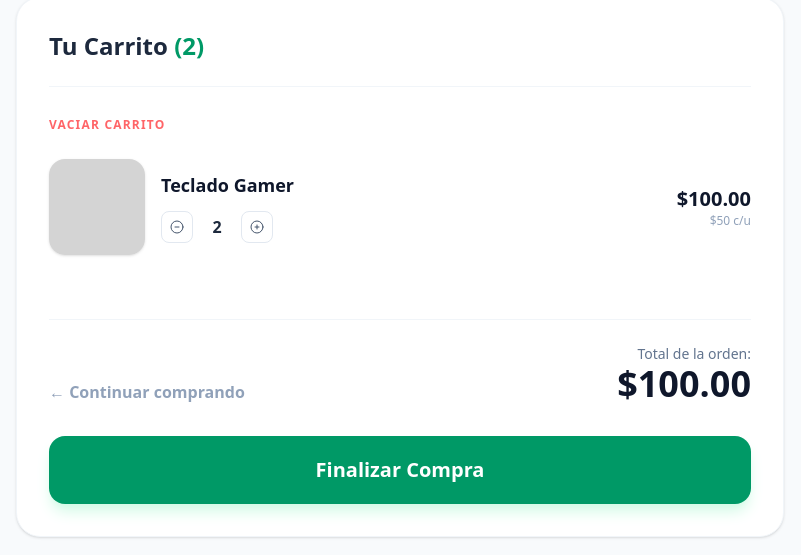
it: <Cart /> › debe vaciar el carrito al hacer clic en "Vaciar Carrito"
The width and height of the screenshot is (801, 555).
What coordinates should you click on to do the following:
click the button "Vaciar Carrito"
I would click on:
 (107, 125)
Its box is [49, 117, 166, 133].
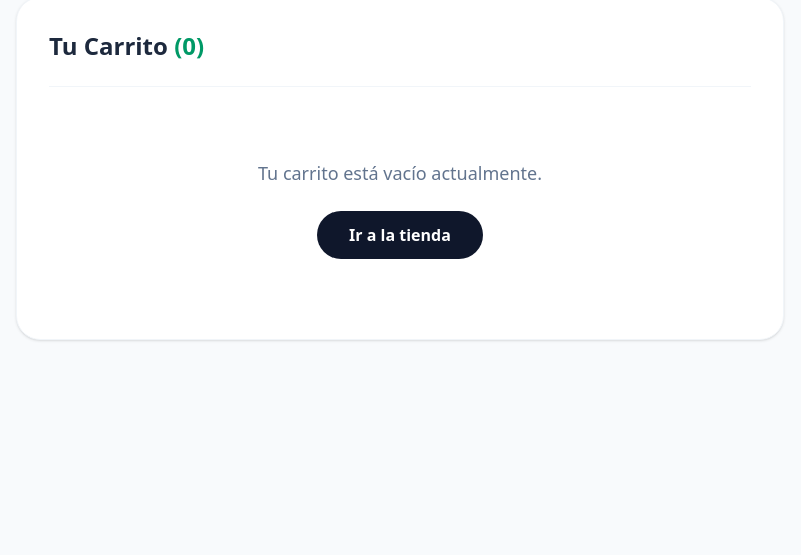
Result: the text "Tu carrito está vacío actualmente." is shown at [258, 161, 542, 185]
